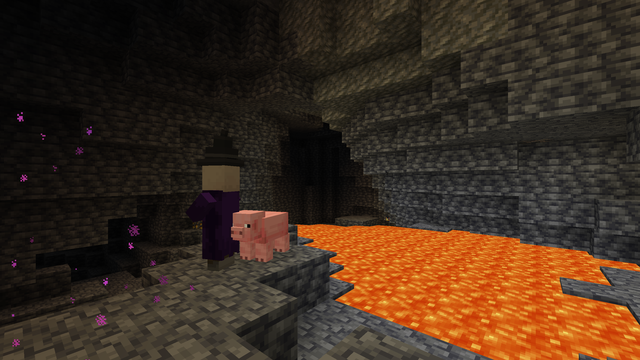cochons: (249, 209, 293, 263)
sorcieres: (198, 160, 244, 274)
